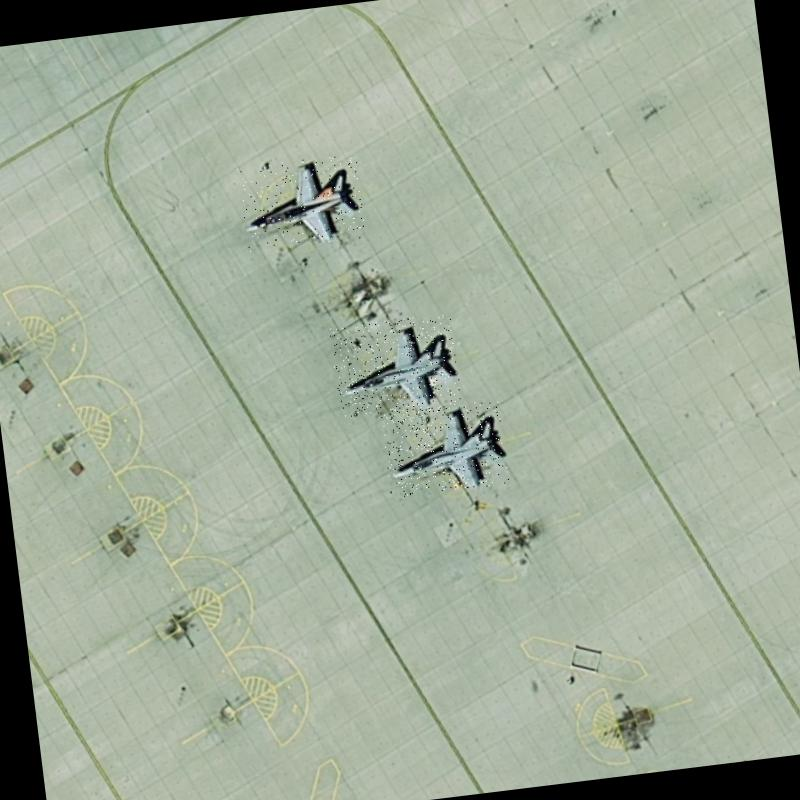A16: (328, 312, 462, 420), (236, 152, 366, 252), (380, 399, 508, 498)
